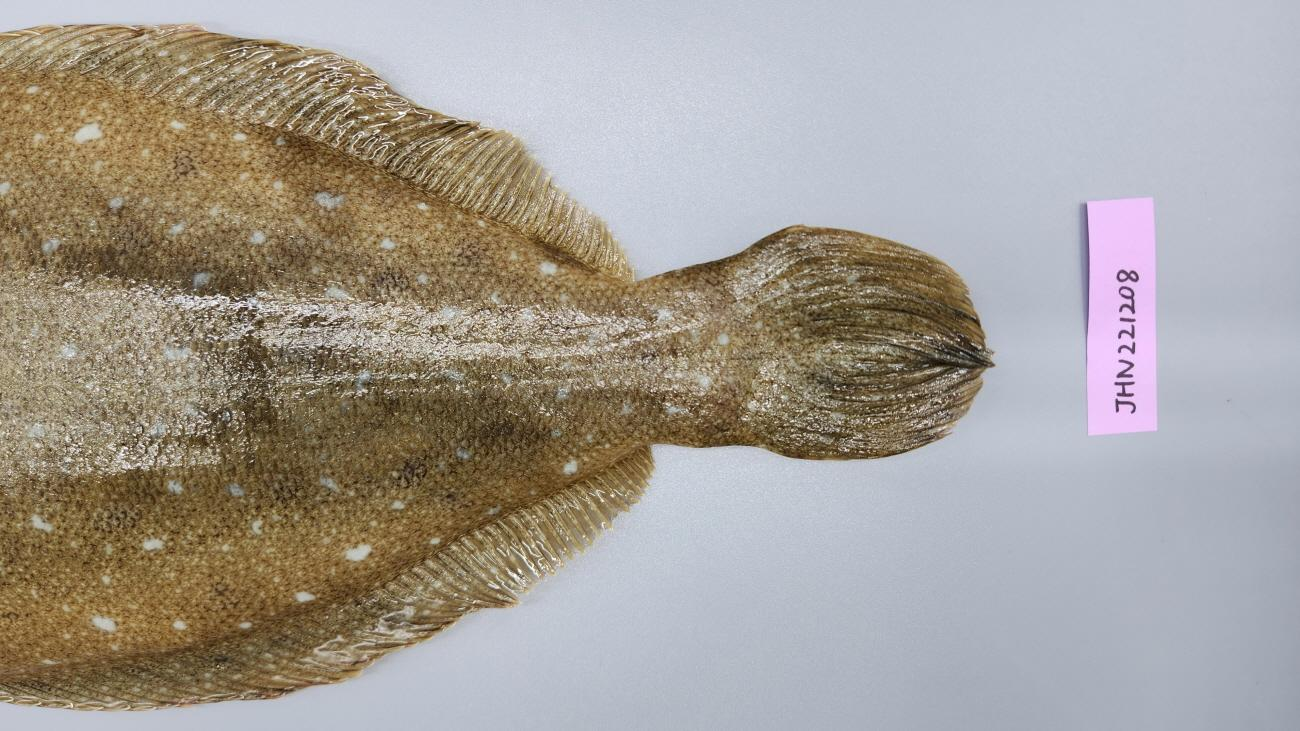POOUN: (0, 22, 995, 714)
